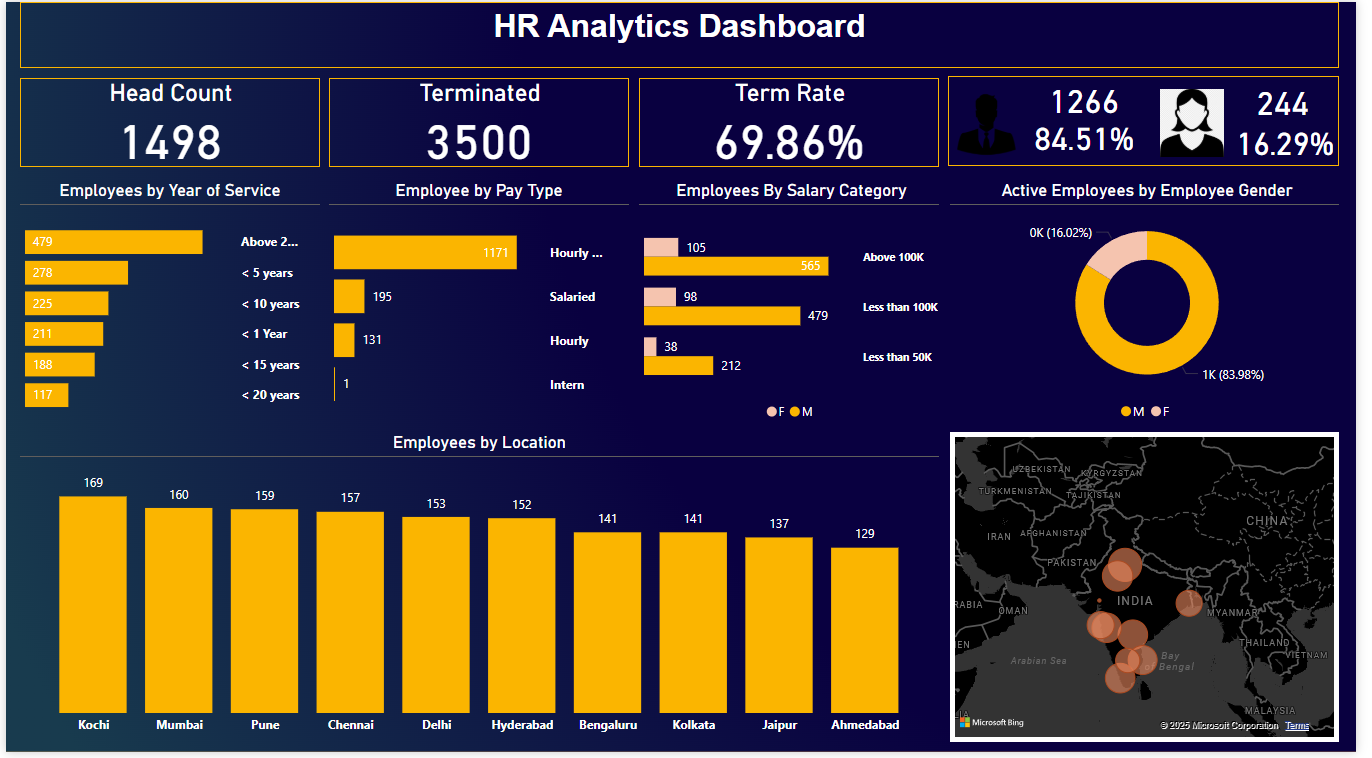

What the dashboard file says about the page in this screenshot:
{"tool":"powerbi","page":{"name":"Home","canvas":[1350,750],"ordinal":0},"visuals":[{"type":"textbox","title":"HR","box":[14,0,1318.9,65.6],"z":0},{"type":"shape","box":[942,74.8,391,89.8],"z":0,"group":"g1"},{"type":"card","title":"Head Count","fields":{"Values":["Employees.Exsisting Emp Count"]},"box":[14,76,300,89],"z":1000},{"type":"card","title":"Terminated","fields":{"Values":["Employees.Terminated Employee"]},"box":[323,76,300,89],"z":2000},{"type":"card","title":"Term Rate","fields":{"Values":["Employees.Termination_rate %"]},"box":[633,76,300,89],"z":3000},{"type":"group","id":"g1","title":"Group 1","box":[892,70.3,458,108.7],"z":4000},{"type":"card","title":"Male","fields":{"Values":["Employees.Male Count"]},"box":[1028,73,100,47],"z":5000,"group":"g1"},{"type":"barChart","title":"Employees by Year of Service","fields":{"Category":["Employees.Year of service"],"Y":["Employees.Exsisting Emp Count"]},"box":[14,178,300,244],"z":5000},{"type":"card","title":"Male count %","fields":{"Values":["Employees.Male Count %"]},"box":[1010,105,136,60],"z":6000,"group":"g1"},{"type":"barChart","title":"Employee by Pay Type","fields":{"Category":["Employees.Pay Type Name"],"Y":["Employees.Exsisting Emp Count"]},"box":[323,178,300,244],"z":6000},{"type":"card","title":"Female","fields":{"Values":["Employees.Female Count"]},"box":[1220,70.3,113,57.5],"z":7000,"group":"g1"},{"type":"clusteredBarChart","title":"Employees By Salary Category","fields":{"Category":["Employees.Salary Bucket"],"Y":["Employees.Exsisting Emp Count"],"Series":["Employees.Employee Gender"]},"box":[633,178,300,244],"z":7000},{"type":"card","title":"Female %","fields":{"Values":["Employees.Femal Count %"]},"box":[1208,99.9,142,79.1],"z":8000,"group":"g1"},{"type":"donutChart","fields":{"Y":["Employees.Active Employees"],"Category":["Employees.Employee Gender"]},"box":[944,178,389,244],"z":8000},{"type":"image","title":"Male Image","box":[892,83,177,79],"z":9000,"group":"g1"},{"type":"columnChart","title":"Employees by Location","fields":{"Category":["Employees.Location"],"Y":["Employees.Exsisting Emp Count"]},"box":[14,430,919,310],"z":9000},{"type":"image","title":"Female Image","box":[1103,82,165,78],"z":10000,"group":"g1"},{"type":"map","fields":{"Category":["Employees.Location"],"Size":["Sum(Employees.Salary)"]},"box":[944,430,389,310],"z":10000}]}

Visuals, with their boxes in screenshot pixels (x1, y1, x2, y2), scaled from the page's 1350x750 canvas onto the 1372x758 screenshot:
"HR" textbox: x1=14, y1=0, x2=1355, y2=66
shape: x1=957, y1=76, x2=1355, y2=166
"Head Count" card: x1=14, y1=77, x2=319, y2=167
"Terminated" card: x1=328, y1=77, x2=633, y2=167
"Term Rate" card: x1=643, y1=77, x2=948, y2=167
"Group 1" group: x1=907, y1=71, x2=1371, y2=181
"Male" card: x1=1045, y1=74, x2=1146, y2=121
"Employees by Year of Service" barChart: x1=14, y1=180, x2=319, y2=427
"Male count %" card: x1=1026, y1=106, x2=1165, y2=167
"Employee by Pay Type" barChart: x1=328, y1=180, x2=633, y2=427
"Female" card: x1=1240, y1=71, x2=1355, y2=129
"Employees By Salary Category" clusteredBarChart: x1=643, y1=180, x2=948, y2=427
"Female %" card: x1=1228, y1=101, x2=1371, y2=181
donutChart - Employees.Active Employees x Employees.Employee Gender: x1=959, y1=180, x2=1355, y2=427
"Male Image" image: x1=907, y1=84, x2=1086, y2=164
"Employees by Location" columnChart: x1=14, y1=435, x2=948, y2=748
"Female Image" image: x1=1121, y1=83, x2=1289, y2=162
map - Employees.Location x Sum(Employees.Salary): x1=959, y1=435, x2=1355, y2=748
